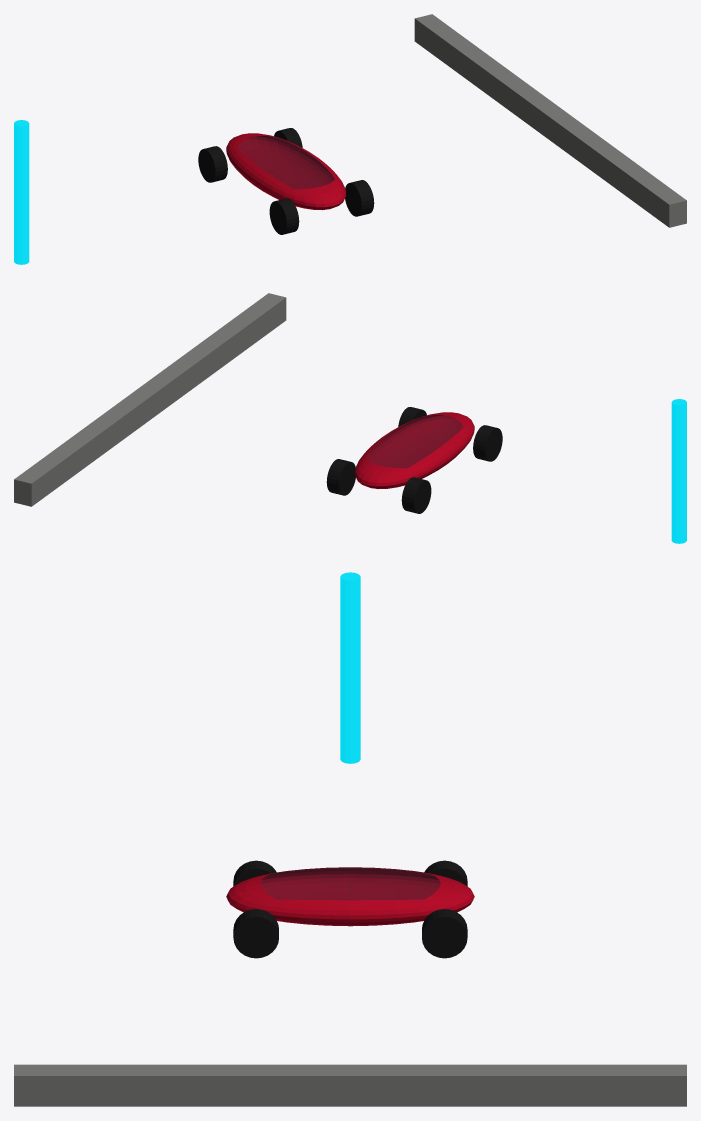
File: test_asset.glb
3 renders of one model, top to bottom at view 1: azimuth 30°, elevation 25°; view 2: azimuth 150°, elevation 25°; view 3: azimuth 270°, elevation 25°, orthographic. The views are drawn at different scales.
Visible parts, largest first — view 1: Barrier-col, Roadster_Body, LampPole-convcol, Wheel_FL, Wheel_RL, Wheel_RR; view 2: Barrier-col, Roadster_Body, LampPole-convcol, Wheel_RL, Wheel_FL, Wheel_FR; view 3: Barrier-col, Roadster_Body, LampPole-convcol, Wheel_FR, Wheel_RR.
Part boxes in pixels (left/top/right/bottom): Barrier-col: left=414, top=14, right=686, bottom=227; Roadster_Body: left=226, top=133, right=346, bottom=210; LampPole-convcol: left=14, top=120, right=29, bottom=264; Wheel_FL: left=198, top=146, right=227, bottom=182; Wheel_RL: left=269, top=198, right=299, bottom=234; Wheel_RR: left=345, top=180, right=374, bottom=216; Barrier-col: left=14, top=293, right=286, bottom=506; Roadster_Body: left=354, top=412, right=474, bottom=489; LampPole-convcol: left=671, top=399, right=686, bottom=543; Wheel_RL: left=473, top=425, right=502, bottom=461; Wheel_FL: left=401, top=477, right=431, bottom=513; Wheel_FR: left=326, top=459, right=355, bottom=495; Barrier-col: left=14, top=1064, right=686, bottom=1106; Roadster_Body: left=226, top=867, right=474, bottom=926; LampPole-convcol: left=340, top=572, right=360, bottom=763; Wheel_FR: left=422, top=909, right=467, bottom=958; Wheel_RR: left=233, top=909, right=278, bottom=958.
Size of what is drawn, in the model's own units: 12.35 by 3 by 10.
